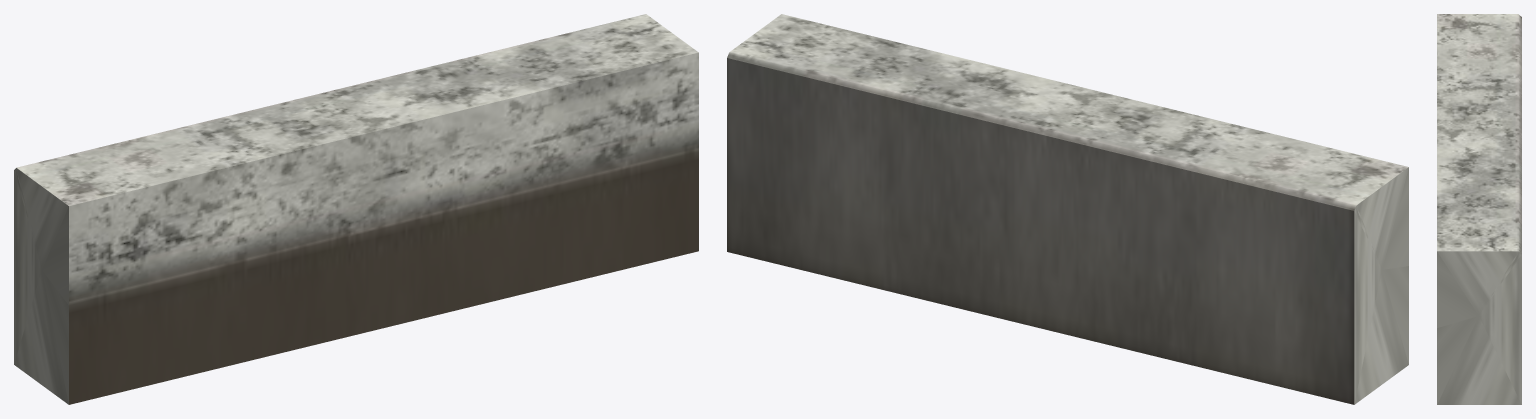
File: curb_broken_white_lod2_web.glb
3 renders of one model, left to right at view 1: azimuth 30°, elevation 25°; view 2: azimuth 150°, elevation 25°; view 3: azimuth 270°, elevation 25°, orthographic. The views are drawn at different scales.
Visible parts, largest first — view 1: curb_broken_white_Mesh; view 2: curb_broken_white_Mesh; view 3: curb_broken_white_Mesh.
Boxes of the visible parts, x1=… form: curb_broken_white_Mesh: x1=14, y1=14, x2=698, y2=404; curb_broken_white_Mesh: x1=727, y1=14, x2=1408, y2=404; curb_broken_white_Mesh: x1=1437, y1=14, x2=1521, y2=404.
Bounding box in the file's own units: 0.995 × 0.3 × 0.15.
1 material, 1 textured.
